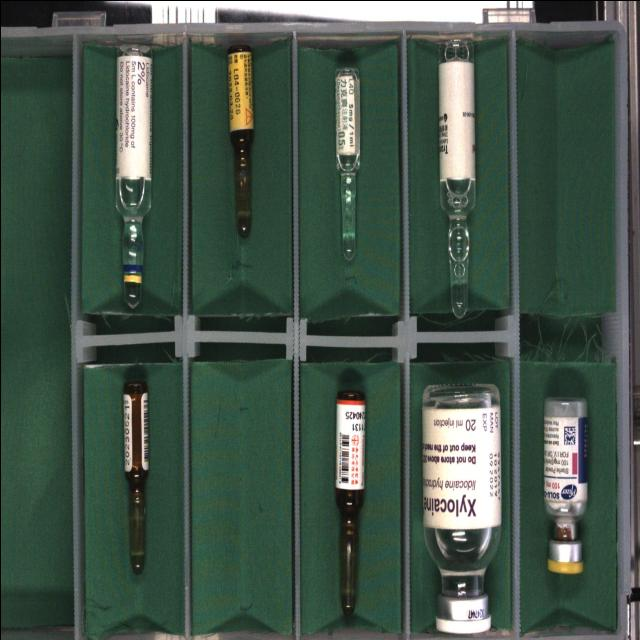Vials: (422, 383, 500, 633), (542, 396, 587, 574)
